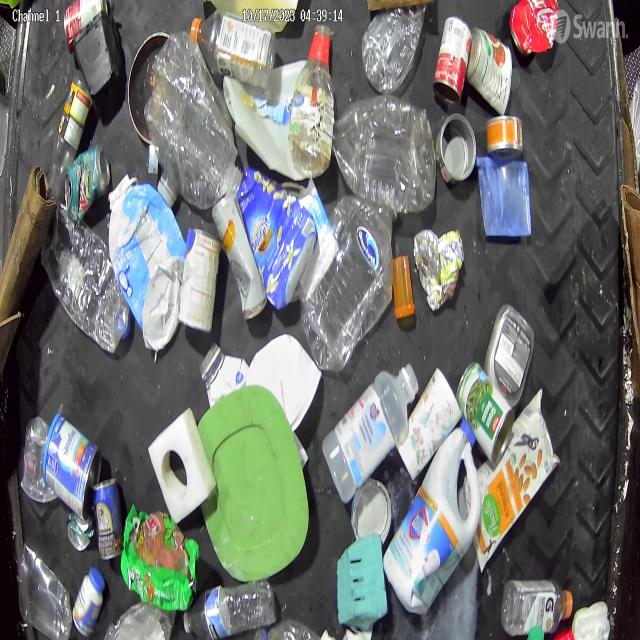can: (455, 361, 514, 466), (180, 225, 222, 333), (466, 26, 513, 116), (64, 147, 110, 223), (435, 15, 470, 100), (509, 0, 559, 56), (352, 476, 395, 541), (92, 477, 124, 560), (439, 115, 475, 179), (485, 113, 526, 158), (67, 512, 93, 552)
non_white_jug: (383, 417, 482, 616), (108, 181, 186, 344), (121, 504, 200, 612)
plastic_bottle: (331, 96, 437, 215), (190, 10, 278, 89), (363, 7, 429, 93), (185, 579, 276, 640), (501, 578, 573, 638)
